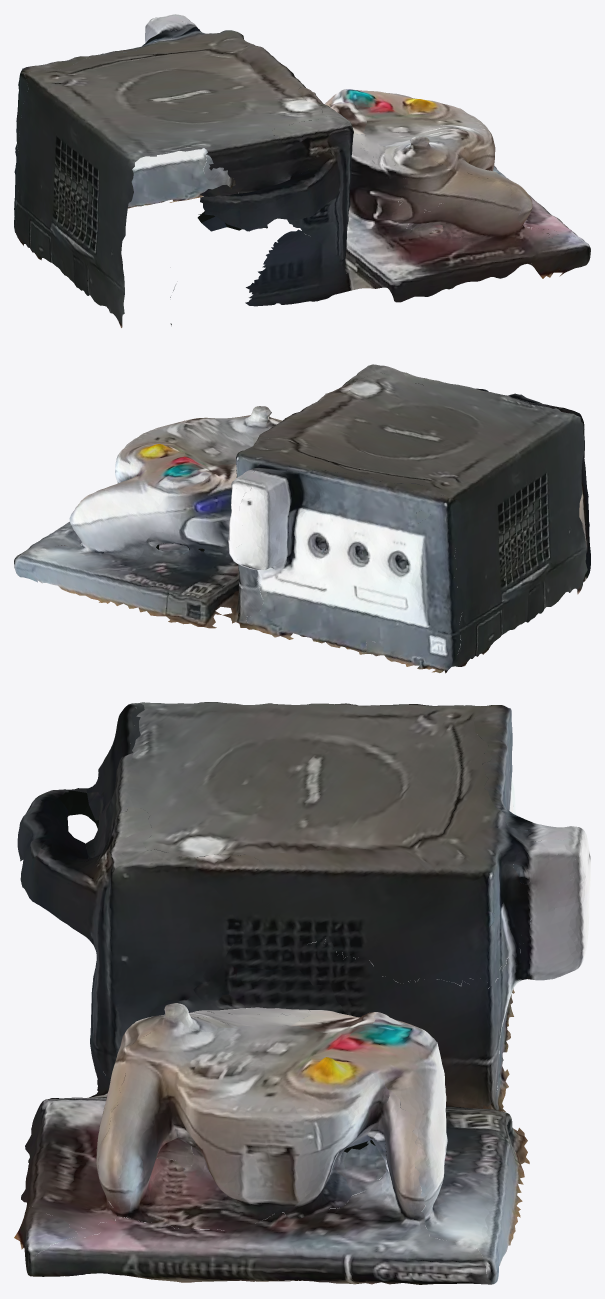
Rendered from gamecube-transformed.glb.
The picture shows the model from 3 angles, top to bottom: view 1: azimuth 30°, elevation 25°; view 2: azimuth 150°, elevation 25°; view 3: azimuth 270°, elevation 25°; orthographic projection. The views are drawn at different scales.
Visible parts, largest first — view 1: Object_3, Object_2, Object_4; view 2: Object_3, Object_4, Object_2; view 3: Object_2, Object_3, Object_4.
Part boxes in pixels (x1,y1,x2,y2): Object_3: (14,14,590,327); Object_2: (170,21,590,325); Object_4: (14,15,560,297); Object_3: (19,372,587,666); Object_4: (236,398,590,673); Object_2: (14,364,542,656); Object_2: (14,737,589,1284); Object_3: (21,702,582,1284); Object_4: (69,703,590,1237).
Bounding box in the file's own units: 0.3615 × 0.1458 × 0.2683.
Materials: 1 (1 with a texture image).
